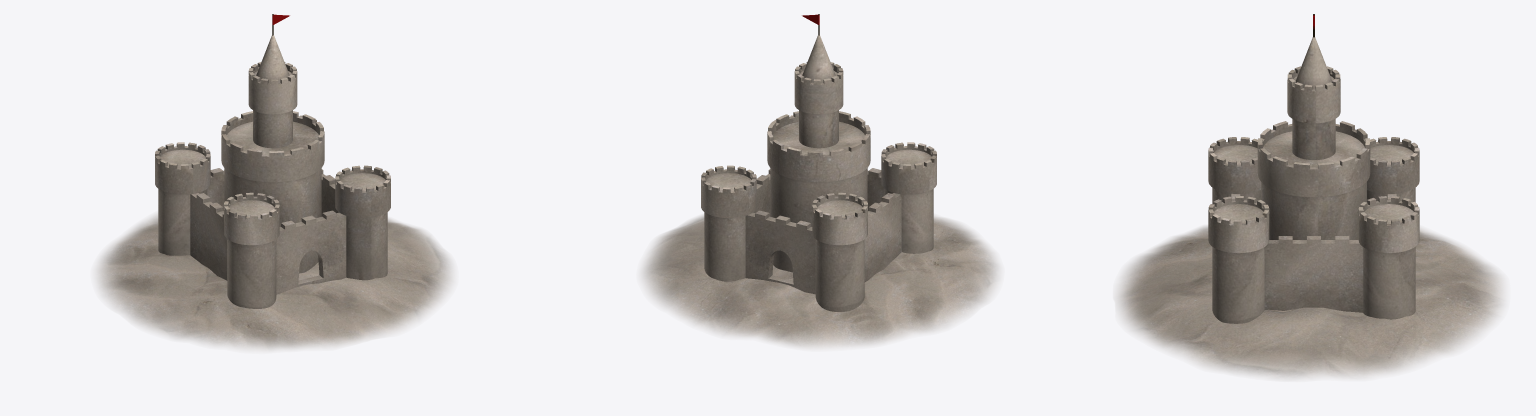
File: castlesable.glb
3 renders of one model, left to right at view 1: azimuth 30°, elevation 25°; view 2: azimuth 150°, elevation 25°; view 3: azimuth 270°, elevation 25°, orthographic. The views are drawn at different scales.
Visible parts, largest first — view 1: Plane, Cylinder, Cylinder.002, Cube, Cylinder.001, Cube.001; view 2: Plane, Cylinder, Cylinder.002, Cube, Cylinder.001, Cube.001; view 3: Plane, Cylinder, Cylinder.002, Cube.001, Cylinder.001.
Boxes of the visible parts, left/top/right/bottom form: Plane: left=96, top=213, right=453, bottom=350; Cylinder: left=155, top=115, right=390, bottom=308; Cylinder.002: left=221, top=111, right=324, bottom=273; Cube: left=207, top=168, right=346, bottom=294; Cylinder.001: left=248, top=35, right=297, bottom=148; Cube.001: left=190, top=169, right=338, bottom=280; Plane: left=641, top=215, right=998, bottom=348; Cylinder: left=701, top=115, right=936, bottom=311; Cylinder.002: left=767, top=111, right=870, bottom=272; Cube: left=745, top=168, right=884, bottom=294; Cylinder.001: left=794, top=35, right=843, bottom=148; Cube.001: left=753, top=169, right=901, bottom=282; Plane: left=1116, top=226, right=1504, bottom=378; Cylinder: left=1208, top=137, right=1419, bottom=323; Cylinder.002: left=1257, top=121, right=1370, bottom=239; Cube.001: left=1264, top=236, right=1363, bottom=312; Cylinder.001: left=1287, top=37, right=1340, bottom=159.
Size of the model in its own units: 4.66 by 3.75 by 4.66.
1 material, 1 textured.
